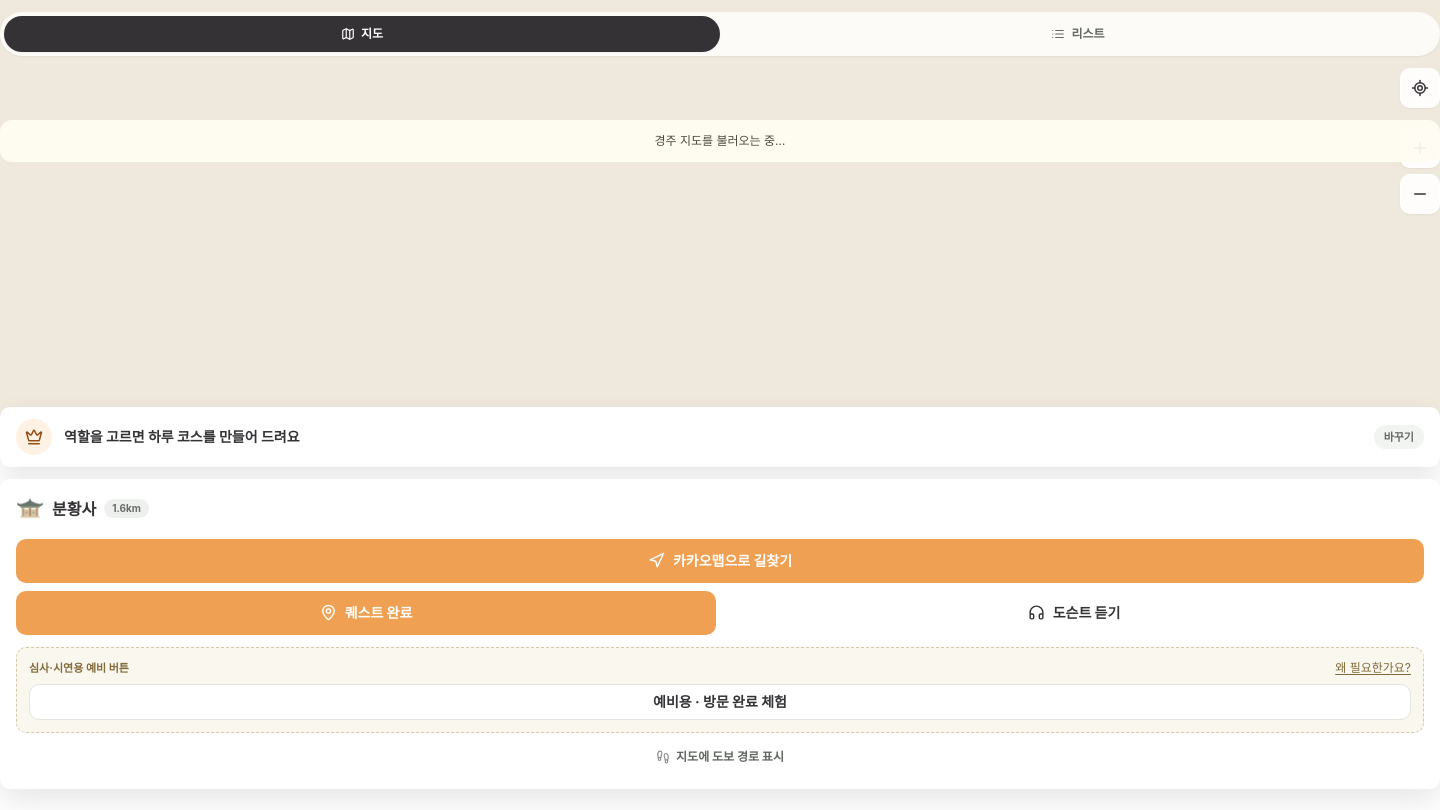
Test case: GyeongjuMap2D › opens the docent player for a place that has a description
Step 1. Click the button "도슨트 듣기" → (1074, 613), box [724,591,1424,635]
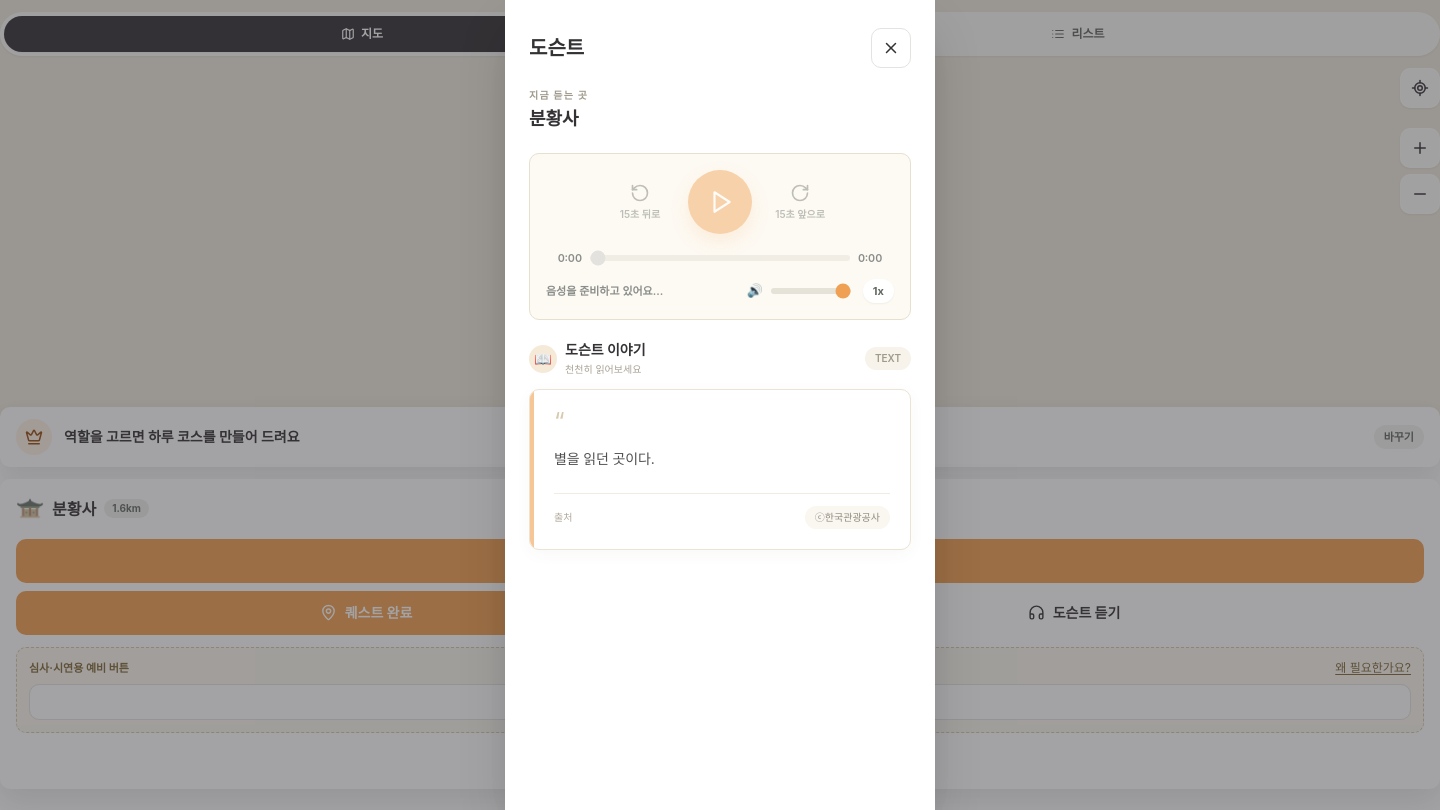
Expected: the dialog "도슨트" is shown, [505,0,935,809]
